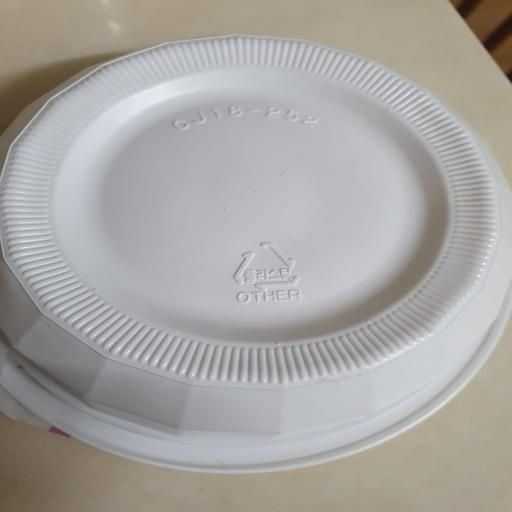plastic: (0, 33, 512, 477)
